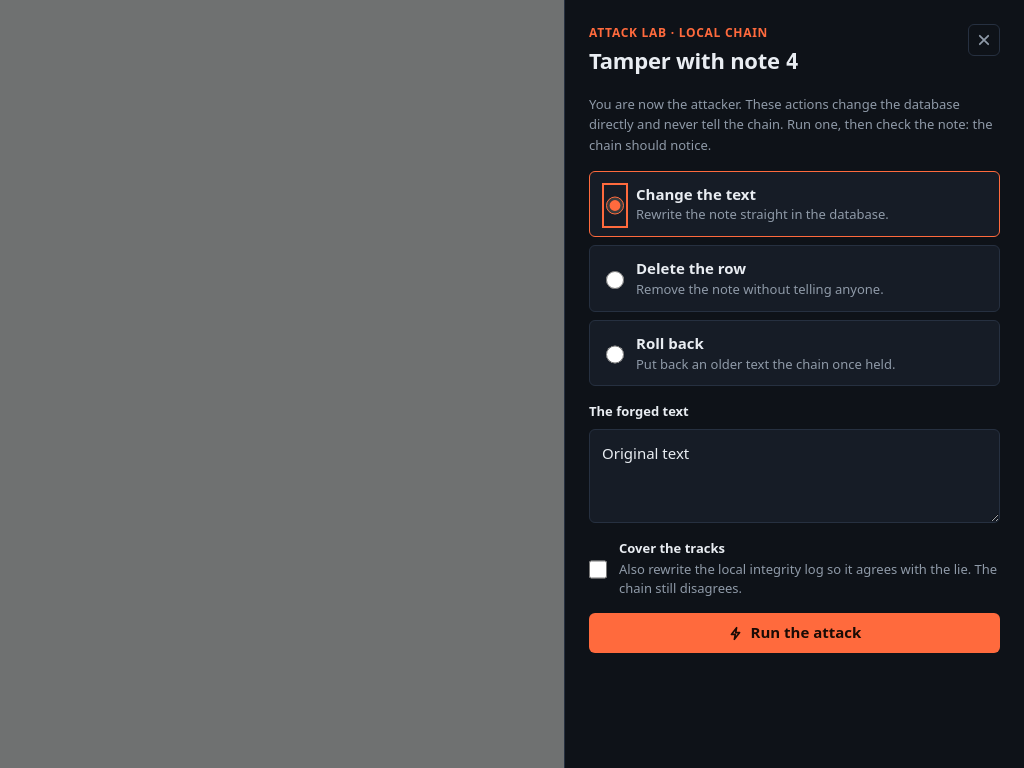
AttackLab › shows a failed attack as a failure, not a success, and offers no check
The image size is (1024, 768).
Click the radio button labelled "Roll back Put back an older text the chain once held.": {"x": 615, "y": 355} [606,336,624,374]
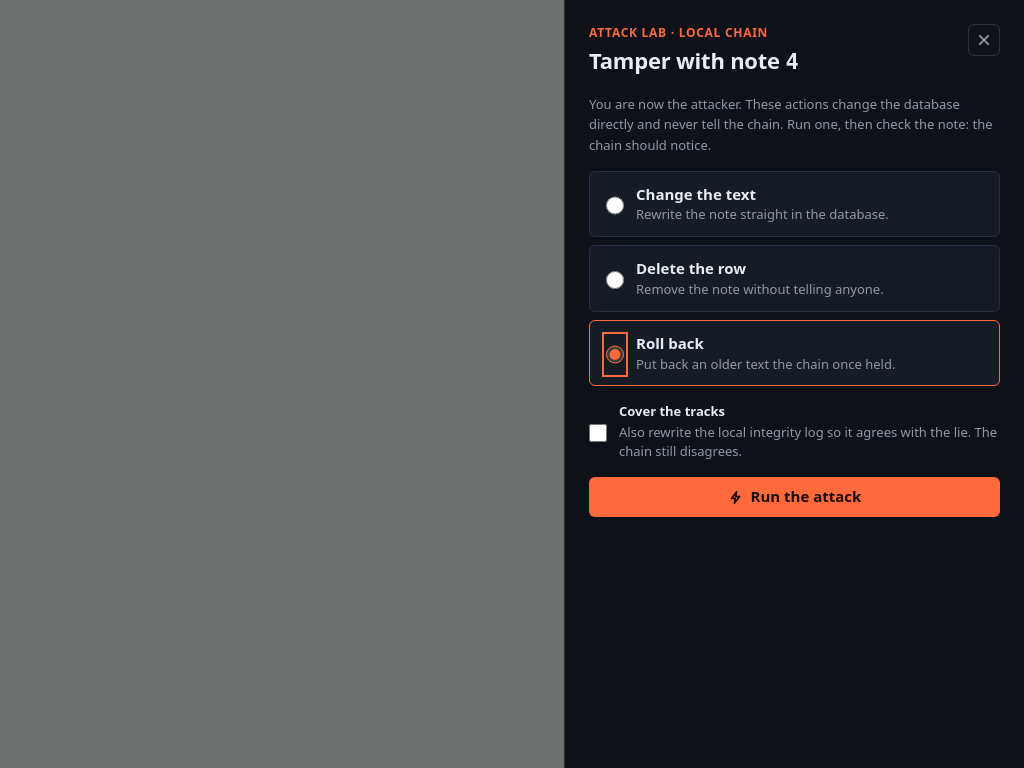
Click the button "Run the attack": {"x": 794, "y": 497} [589,477,1000,517]
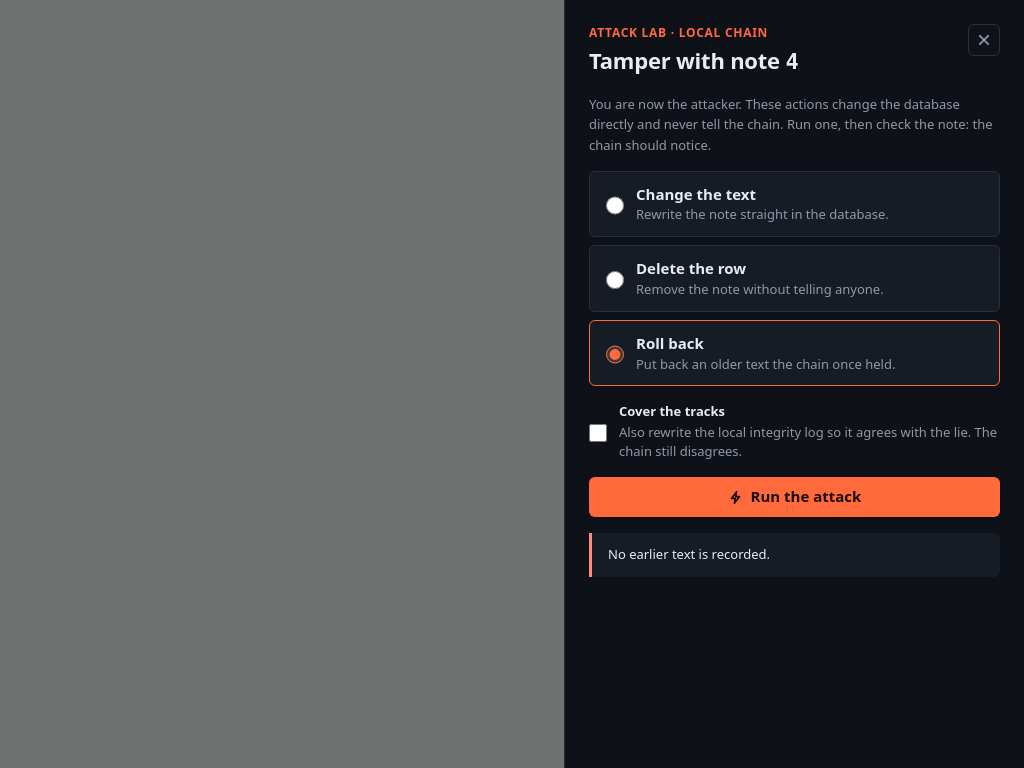
Expected: the text "No earlier text is recorded." is shown, [589,533,1000,576]
